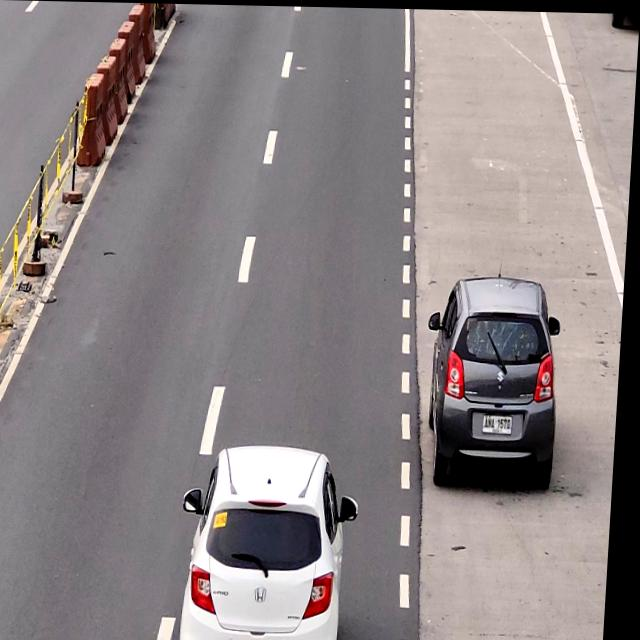Car: (187, 441, 354, 640), (430, 271, 564, 490)
License-Plate: (487, 412, 520, 433)
